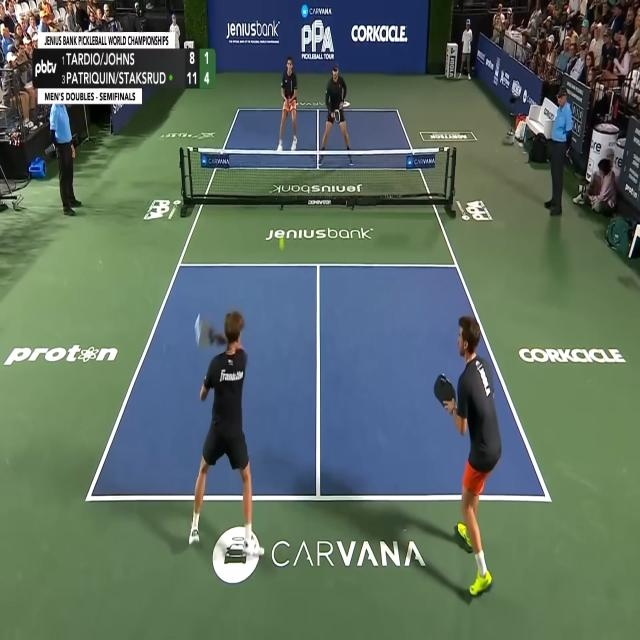ball: (279, 237, 284, 250)
